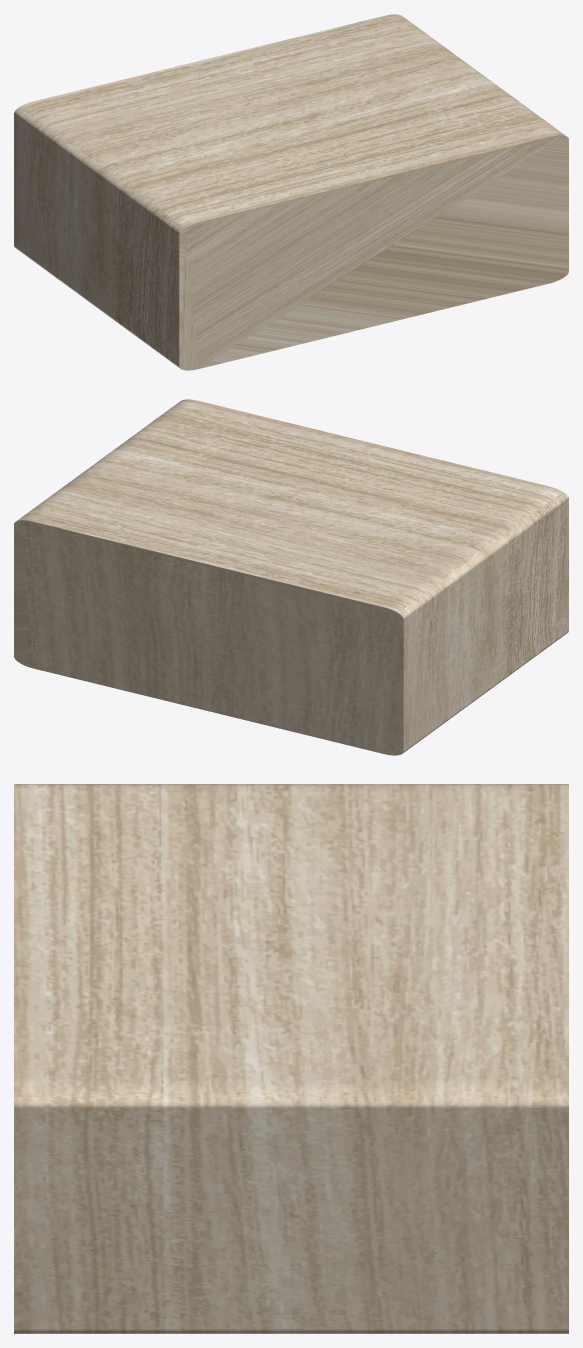
File: modeling11.glb
3 renders of one model, top to bottom at view 1: azimuth 30°, elevation 25°; view 2: azimuth 150°, elevation 25°; view 3: azimuth 270°, elevation 25°, orthographic. The views are drawn at different scales.
Visible parts, largest first — view 1: 큐브.002; view 2: 큐브.002; view 3: 큐브.002.
Part boxes in pixels (left/top/right/bottom): 큐브.002: left=14, top=14, right=568, bottom=370; 큐브.002: left=14, top=399, right=568, bottom=755; 큐브.002: left=14, top=784, right=568, bottom=1333.
Bounding box in the file's own units: 1.67 × 0.6002 × 1.22.
1 material, 1 textured.
